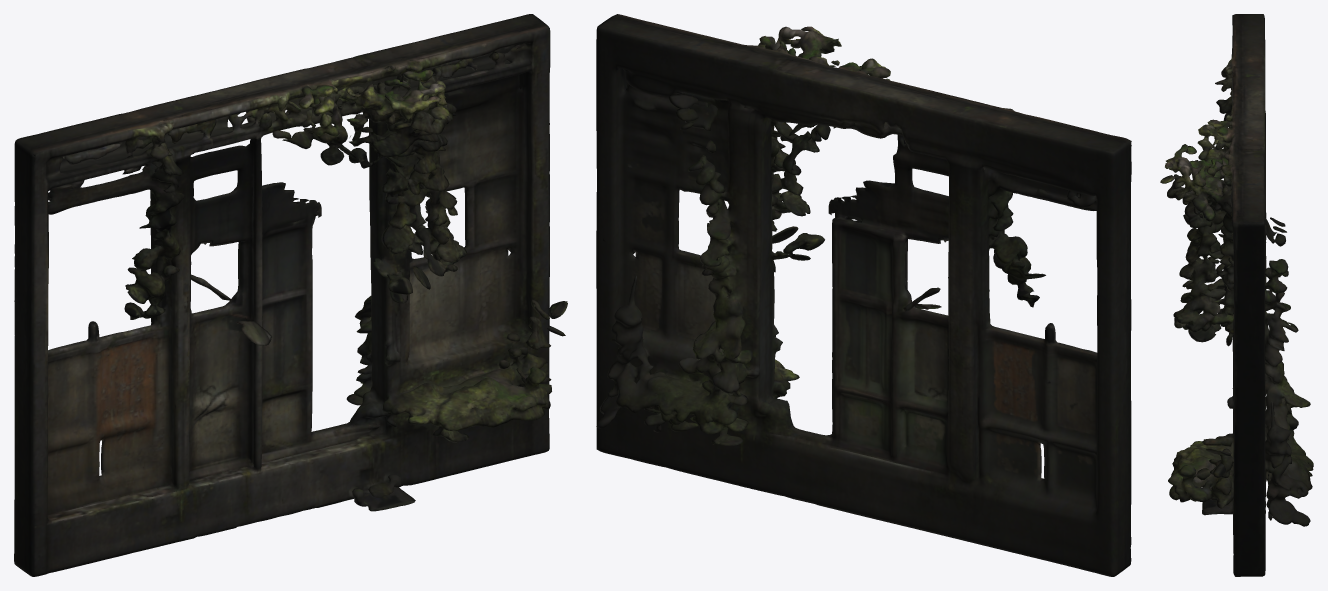
Rendered from A_window_A_dark_atmo_0425131841_refine.fbx.
3 views of the same model, side by side, from view 1: azimuth 30°, elevation 25°; view 2: azimuth 150°, elevation 25°; view 3: azimuth 270°, elevation 25° (orthographic). The views are drawn at different scales.
Parts seen in each view (by area): view 1: Mesh1; view 2: Mesh1; view 3: Mesh1.
Boxes of the visible parts, x1,y1,x2,y2 form: Mesh1: [14, 14, 567, 576]; Mesh1: [596, 14, 1131, 576]; Mesh1: [1160, 14, 1313, 576].
Bounding box in the file's own units: 196 × 154 × 59.84.
1 material, 1 textured.
